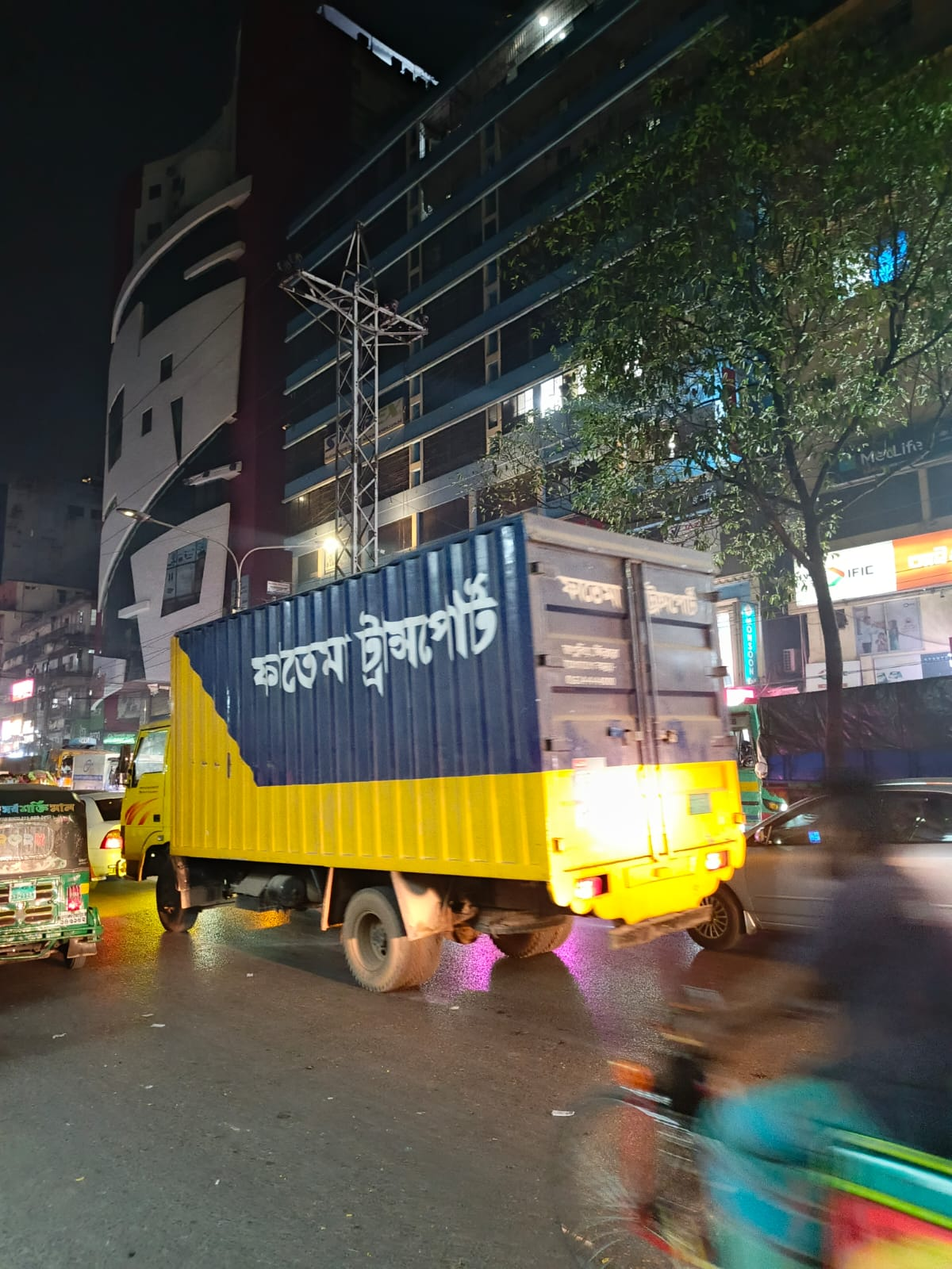Truck: (106, 482, 774, 1014)
cng: (5, 767, 125, 1033)
private car: (746, 764, 952, 985), (78, 761, 140, 891)
